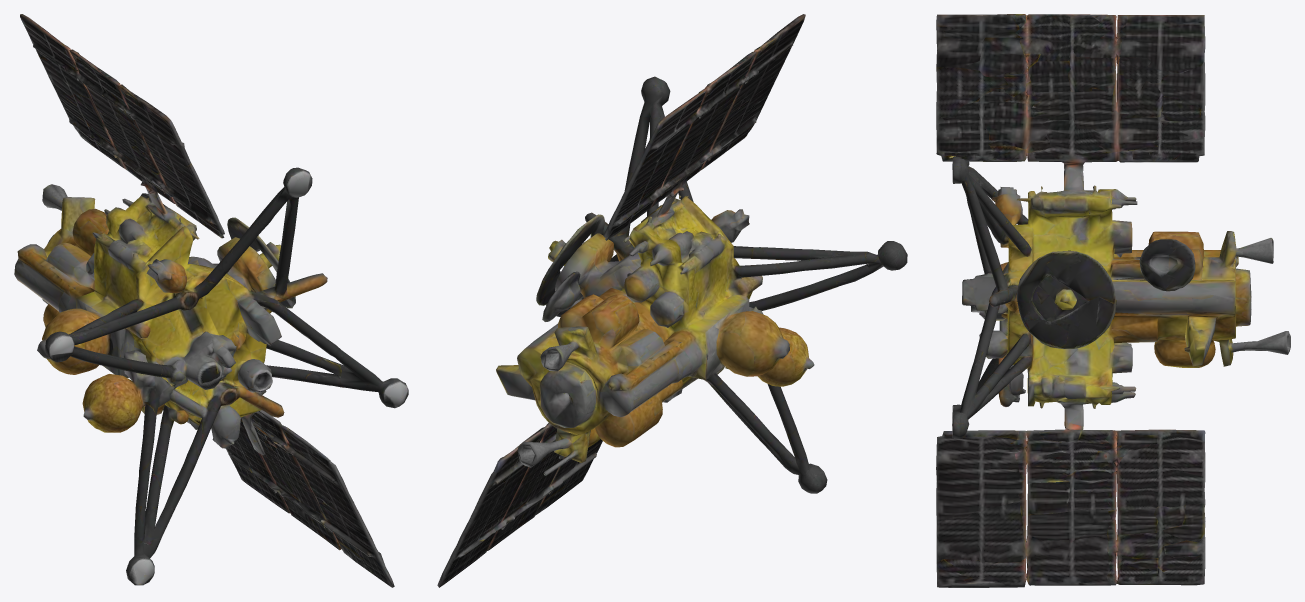
The model's file is mmx-low.glb.
3 renders of one model, left to right at view 1: azimuth 30°, elevation 25°; view 2: azimuth 150°, elevation 25°; view 3: azimuth 270°, elevation 25°, orthographic. The views are drawn at different scales.
Size of the model in its own units: 0.6015 by 0.8363 by 0.5666.
1 material, 1 textured.
